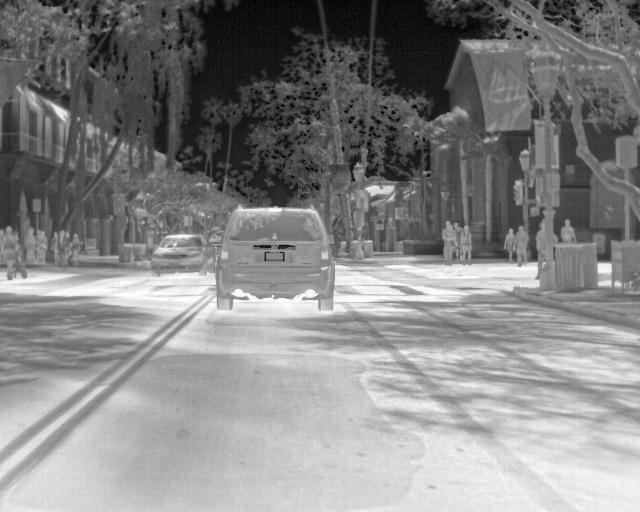bicycle: (211, 204, 338, 313), (148, 233, 216, 277)
empty: (532, 221, 551, 279), (513, 225, 531, 265), (32, 226, 49, 268), (442, 219, 455, 263), (20, 226, 34, 265), (558, 217, 577, 245), (460, 225, 472, 267), (505, 225, 518, 263)
